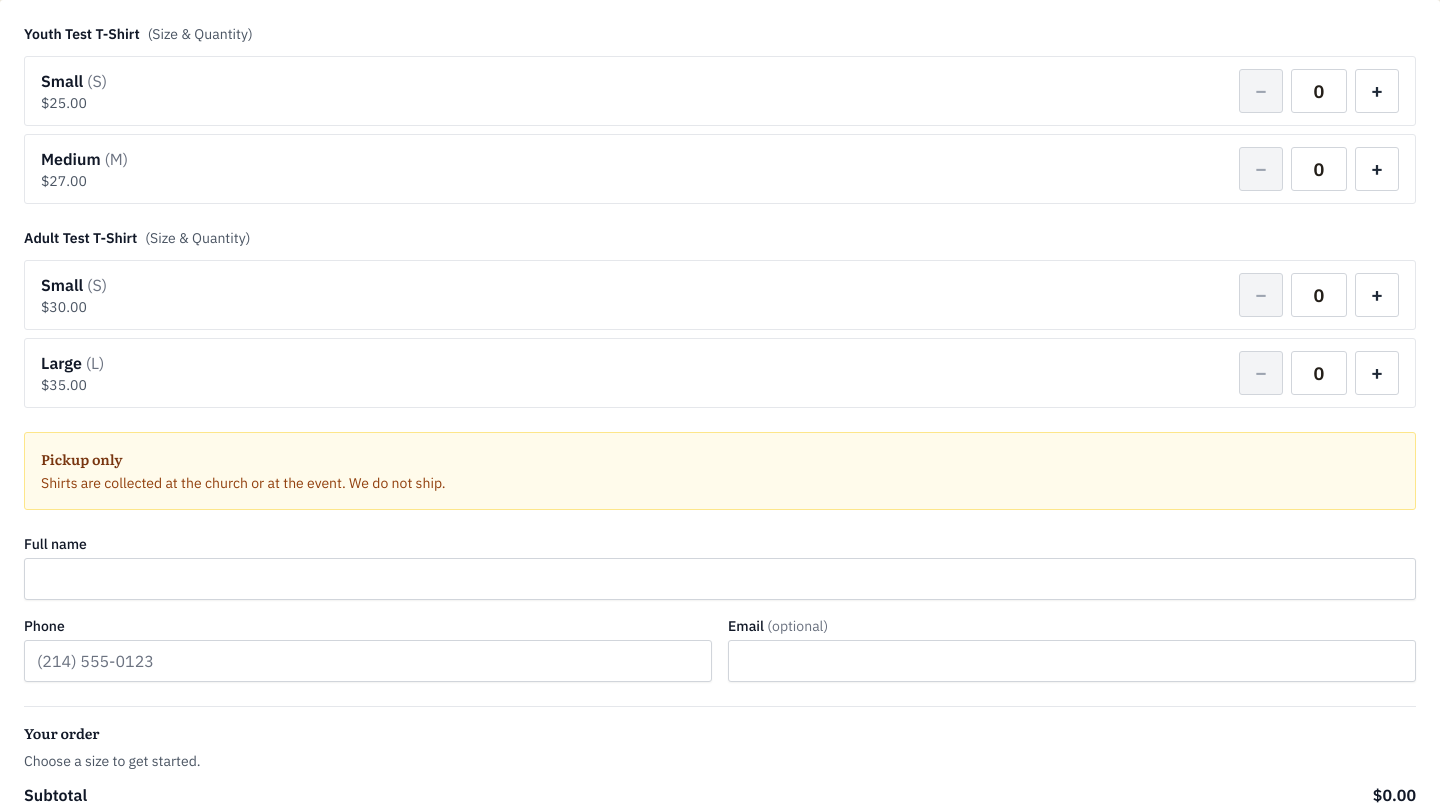
Test: ShirtOrderForm — sizes and quantities › shows a subtotal that follows the chosen quantities
This screenshot has width=1440, height=810.
Replace the text in the number field labelled "Small (S)" in the row of "$25.00" with "2" at (1319, 91), box x1=1291 y1=69 x2=1347 y2=113
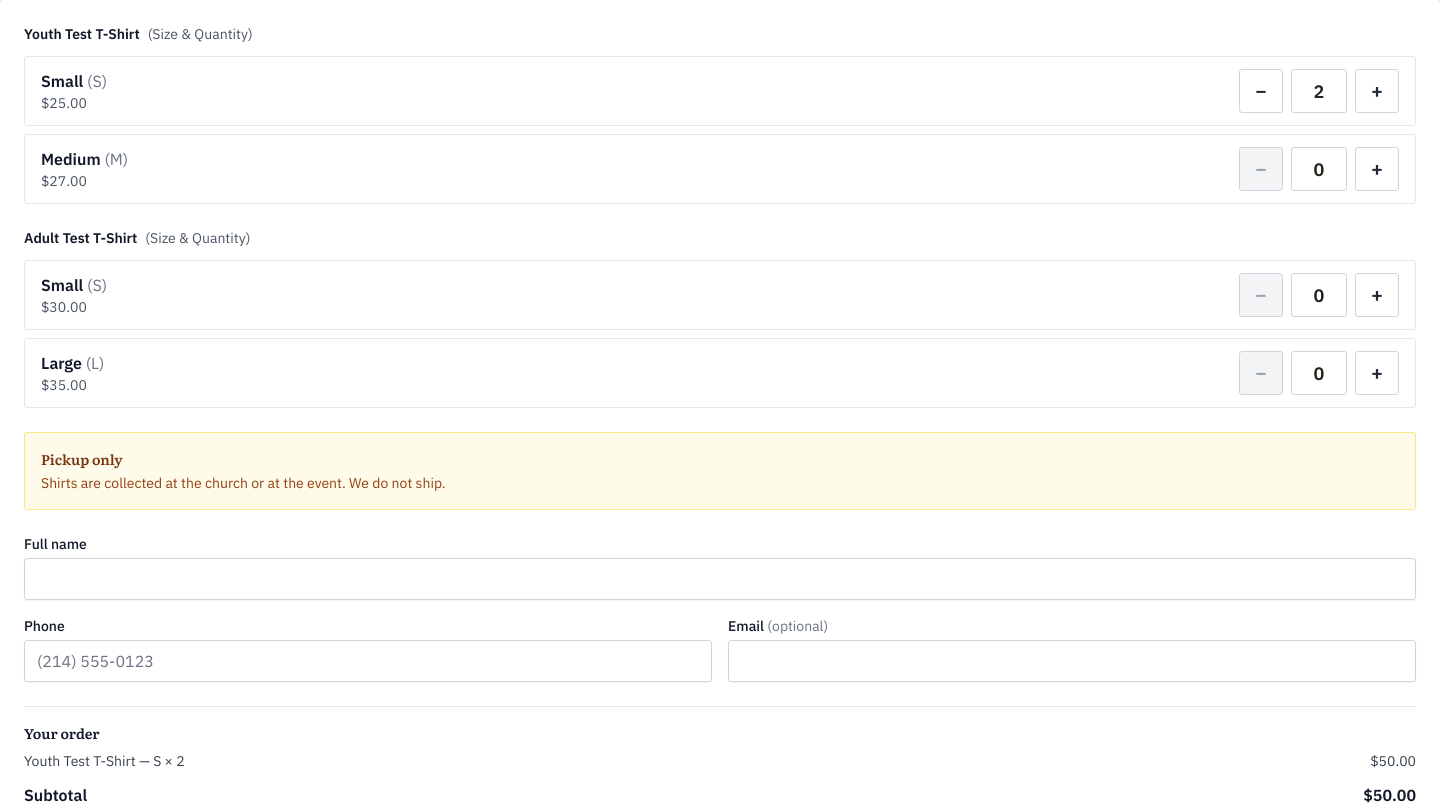
Now the text with test id "merch-subtotal" reads "$50.00", box x1=1363 y1=785 x2=1416 y2=805
Replace the text in the number field labelled "Large (L)" with "1" at (1319, 373), box x1=1291 y1=351 x2=1347 y2=395
(page scrolled)
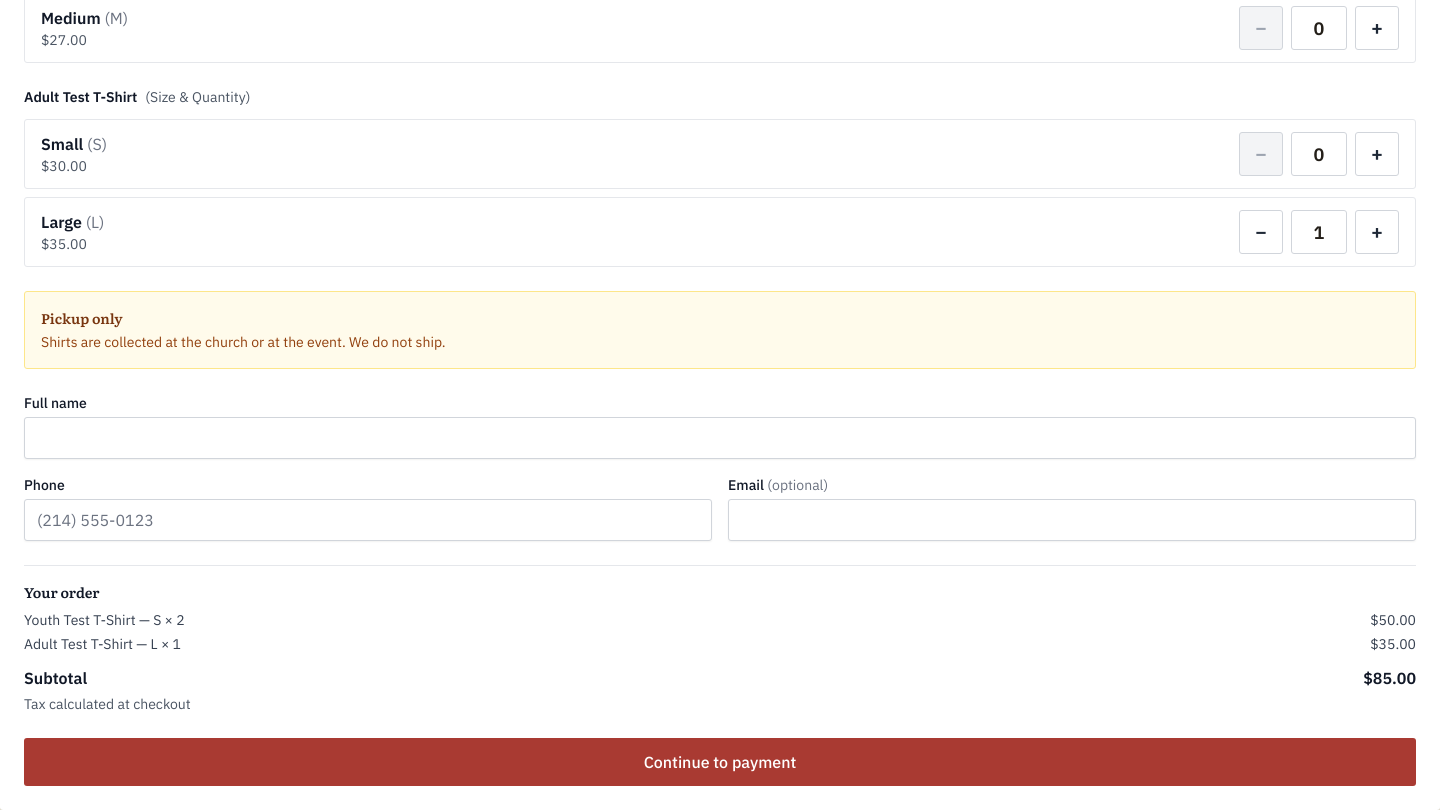
Now the text with test id "merch-subtotal" reads "$85.00", box x1=1363 y1=668 x2=1416 y2=688
